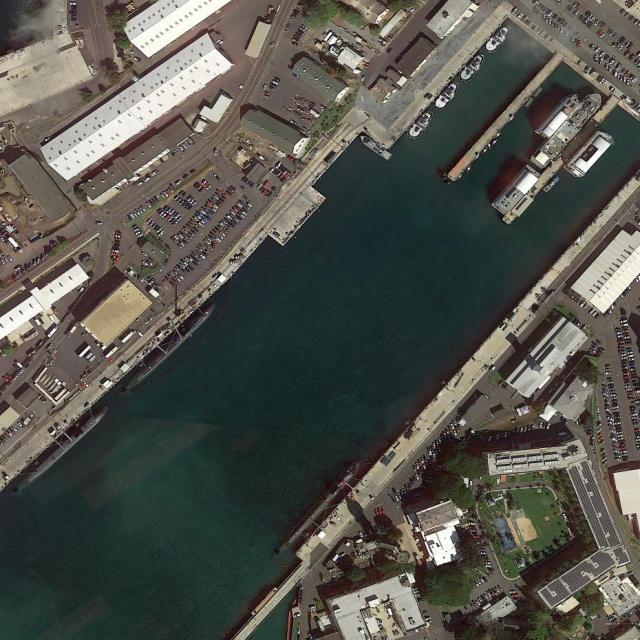Dock: (447, 52, 562, 180), (506, 94, 617, 221)
Hovercraft: (456, 50, 489, 85), (429, 78, 462, 111), (482, 21, 515, 53), (406, 107, 436, 140)
Other Ship: (529, 88, 606, 171), (358, 133, 394, 163)
Submarine: (122, 301, 220, 393), (23, 404, 111, 485), (281, 459, 361, 547)
